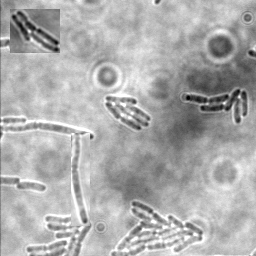Dividing: (1, 123, 95, 142), (71, 133, 90, 226)
Microcolony: (109, 200, 205, 255), (25, 212, 94, 255), (184, 89, 248, 126), (10, 9, 60, 53), (103, 96, 150, 132), (16, 182, 48, 193)
